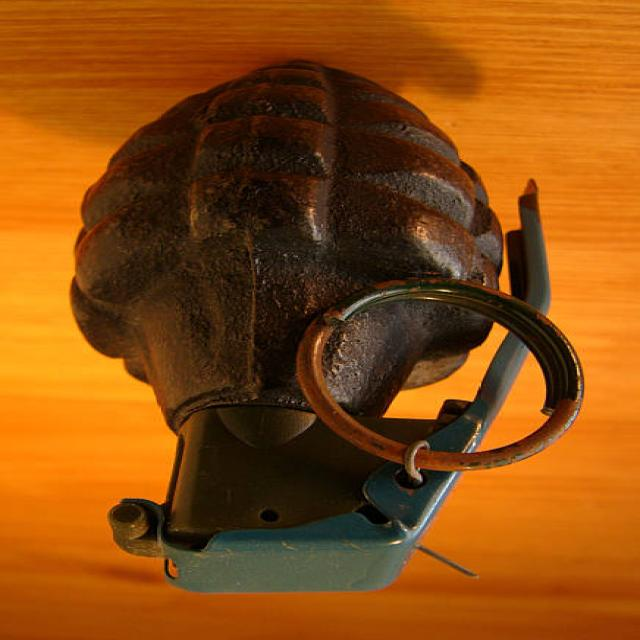grenade: (51, 57, 602, 608)
